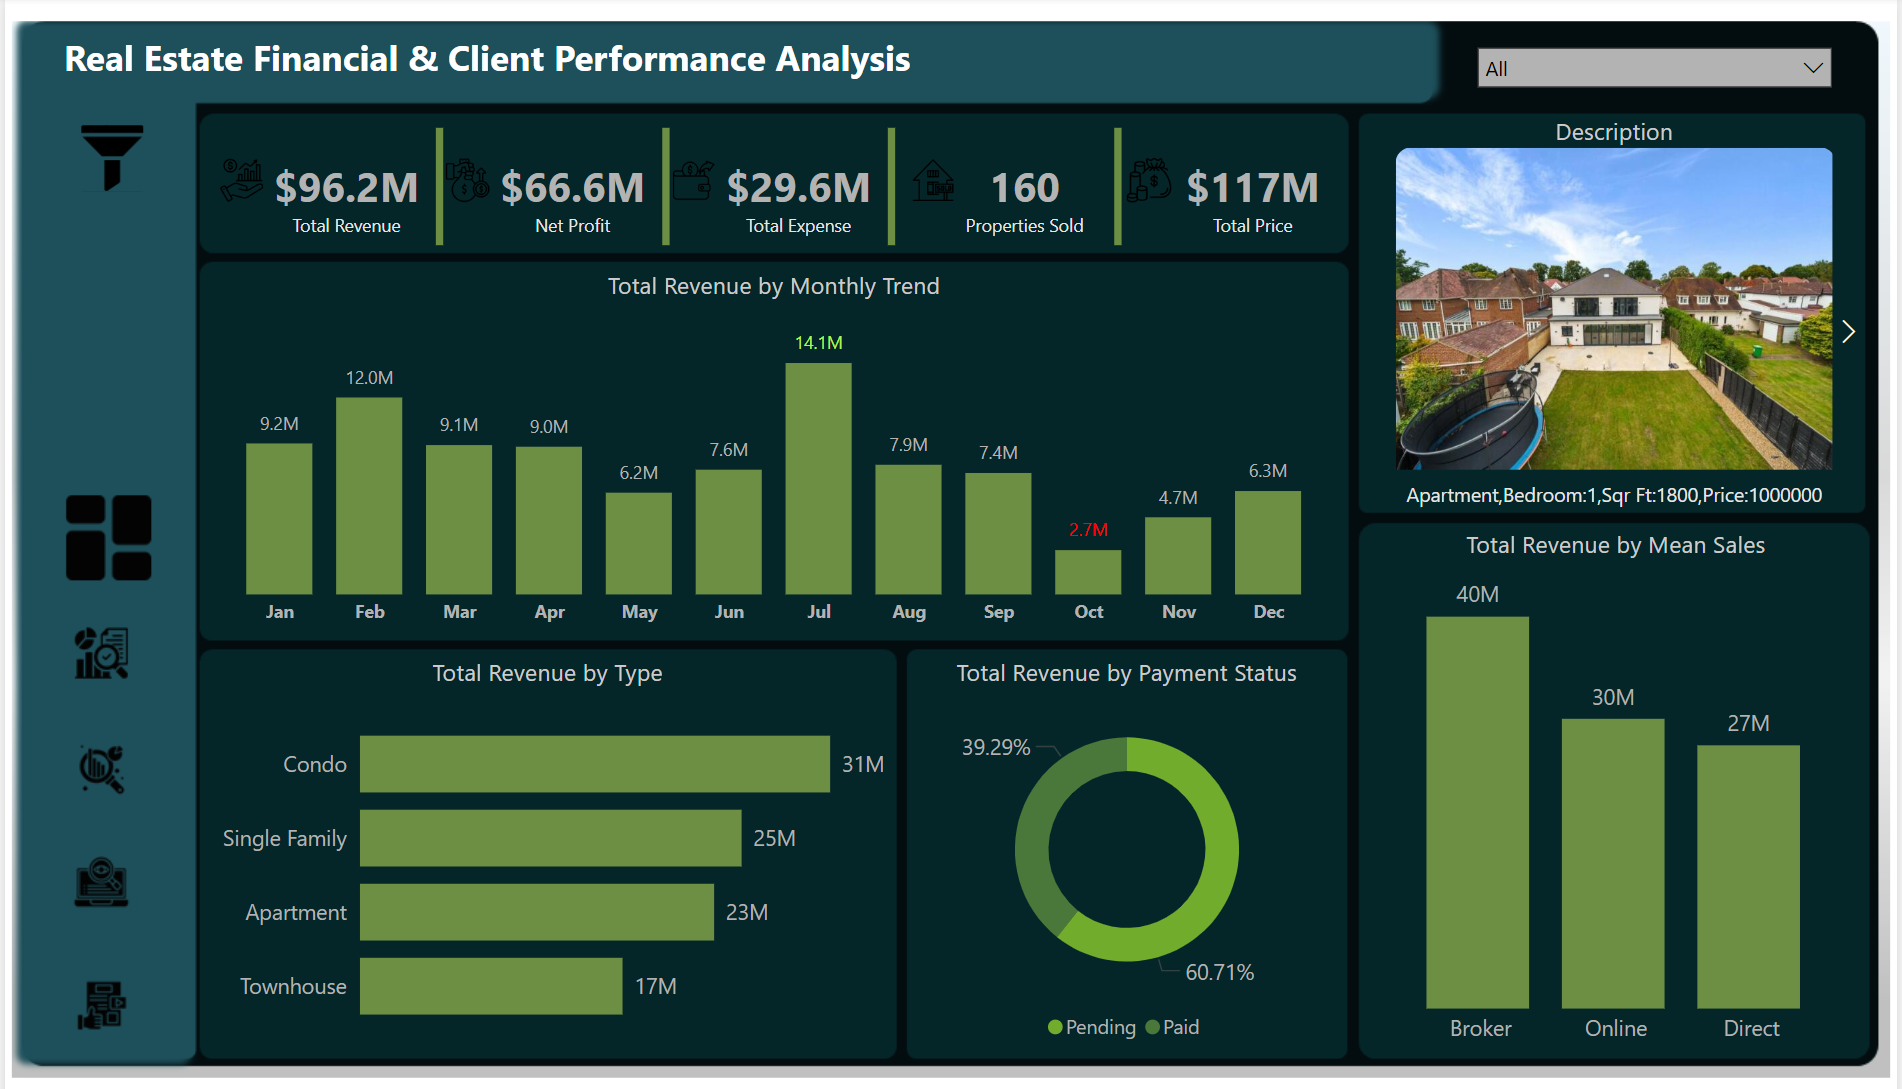

What the dashboard file says about the page in this screenshot:
{"tool":"powerbi","page":{"name":"Revenue Analysis","canvas":[1290,760],"ordinal":0},"visuals":[{"type":"cardVisual","fields":{"Data":["All Measures.Total Revenue","All Measures.Total Income","All Measures.Total Expense","All Measures.Properties Sold","All Measures.Total Price"]},"box":[134.8,84.7,777.6,90.6],"z":0},{"type":"actionButton","box":[36,82.1,75,56.2],"z":1000,"group":"g1"},{"type":"columnChart","fields":{"Category":["Calendar.Month"],"Y":["Switch Measures.Group Measures"]},"box":[134.8,186,778.7,251.6],"z":1000},{"type":"columnChart","fields":{"Category":["Sales_Table.Means of Sales"],"Y":["Switch Measures.Group Measures"]},"box":[926.6,362.5,342.3,361.3],"z":2000},{"type":"clusteredBarChart","fields":{"Y":["Switch Measures.Group Measures"],"Category":["Property_Table.Type"]},"box":[135,450,470,271.2],"z":3000},{"type":"slicer","fields":{"Values":["Switch Measures.Switch Measures"]},"box":[993.4,25,261.2,46.5],"z":4000},{"type":"advancedSlicerVisual","fields":{"Values":["Property_Table.Description"]},"box":[926.2,81.2,340,275],"z":5000},{"type":"donutChart","fields":{"Category":["Sales_Table.Payment Status"],"Y":["Switch Measures.Group Measures"]},"box":[616.6,449.6,295.8,271.9],"z":6000},{"type":"group","id":"g1","title":"SlicersButton","box":[36,80.9,77.5,58.8],"z":7000},{"type":"textbox","box":[14.3,20.3,628.5,42.9],"z":9000},{"type":"actionButton","box":[37.5,340.4,66,60.8],"z":9001},{"type":"actionButton","box":[41.4,427.2,49.2,41.4],"z":9002},{"type":"actionButton","box":[42.7,503.5,49.2,41.4],"z":9003},{"type":"actionButton","box":[42.7,585.1,49.2,41.4],"z":9004},{"type":"actionButton","box":[41.4,665.3,49.2,41.4],"z":9005}]}

Visuals, with their boxes in screenshot pixels (x1, y1, x2, y2), scaled from the page's 1290x760 canvas onto the 1902x1089 screenshot:
cardVisual - All Measures.Total Revenue x All Measures.Total Income: 199, 121, 1345, 251
actionButton: 53, 118, 164, 198
columnChart - Calendar.Month x Switch Measures.Group Measures: 199, 267, 1347, 627
columnChart - Sales_Table.Means of Sales x Switch Measures.Group Measures: 1366, 519, 1871, 1037
clusteredBarChart - Switch Measures.Group Measures x Property_Table.Type: 199, 645, 892, 1033
slicer - Switch Measures.Switch Measures: 1465, 36, 1850, 102
advancedSlicerVisual - Property_Table.Description: 1366, 116, 1867, 510
donutChart - Sales_Table.Payment Status x Switch Measures.Group Measures: 909, 644, 1345, 1034
"SlicersButton" group: 53, 116, 167, 200
textbox: 21, 29, 948, 91
actionButton: 55, 488, 153, 575
actionButton: 61, 612, 134, 671
actionButton: 63, 721, 135, 781
actionButton: 63, 838, 135, 898
actionButton: 61, 953, 134, 1013
